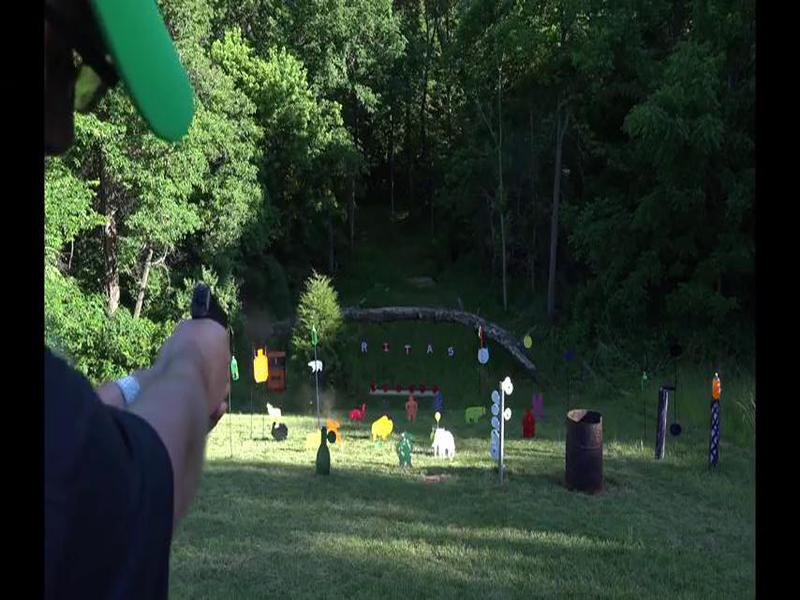Pistola: (178, 273, 251, 376)
